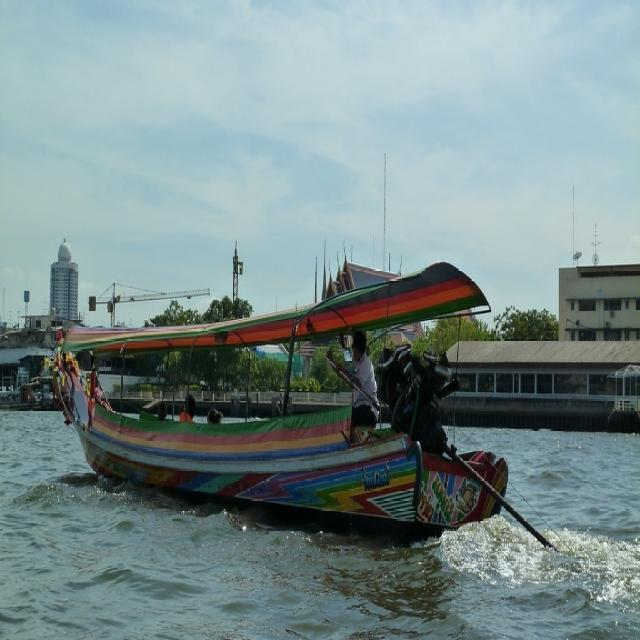boat: (51, 262, 506, 532)
